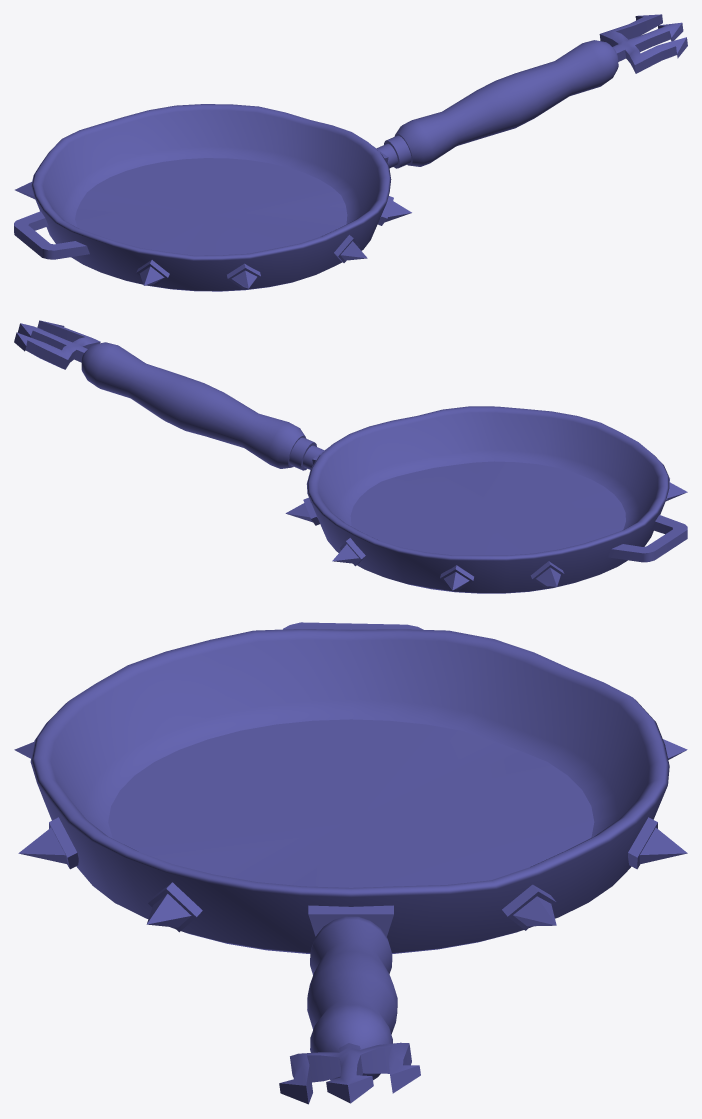
The model's file is SM_Pan_02.fbx.
3 views of the same model, one above another, from view 1: azimuth 30°, elevation 25°; view 2: azimuth 150°, elevation 25°; view 3: azimuth 270°, elevation 25° (orthographic). The views are drawn at different scales.
Visible parts, largest first — view 1: SM_Pan_02; view 2: SM_Pan_02; view 3: SM_Pan_02.
Boxes of the visible parts, x1,y1,x2,y2 form: SM_Pan_02: [14, 14, 687, 291]; SM_Pan_02: [14, 320, 687, 593]; SM_Pan_02: [14, 622, 687, 1104].
Size of the model in its own units: 1428 by 191 by 721.
